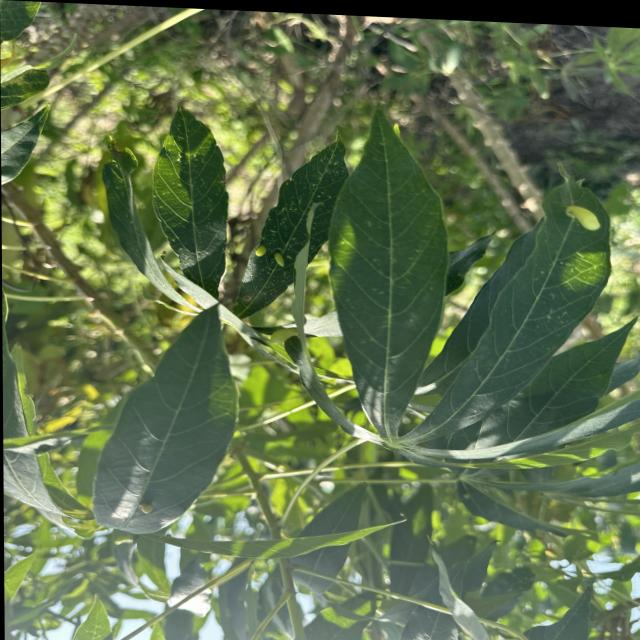Mosca: (240, 236, 297, 273), (133, 484, 164, 520)
